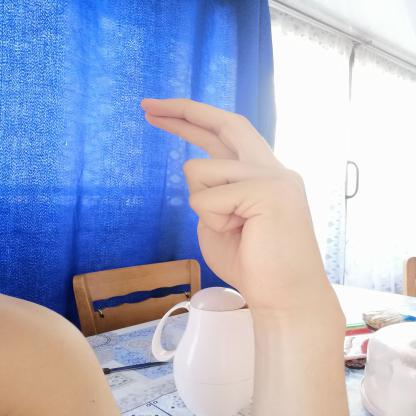ZAY: (124, 88, 348, 320)
